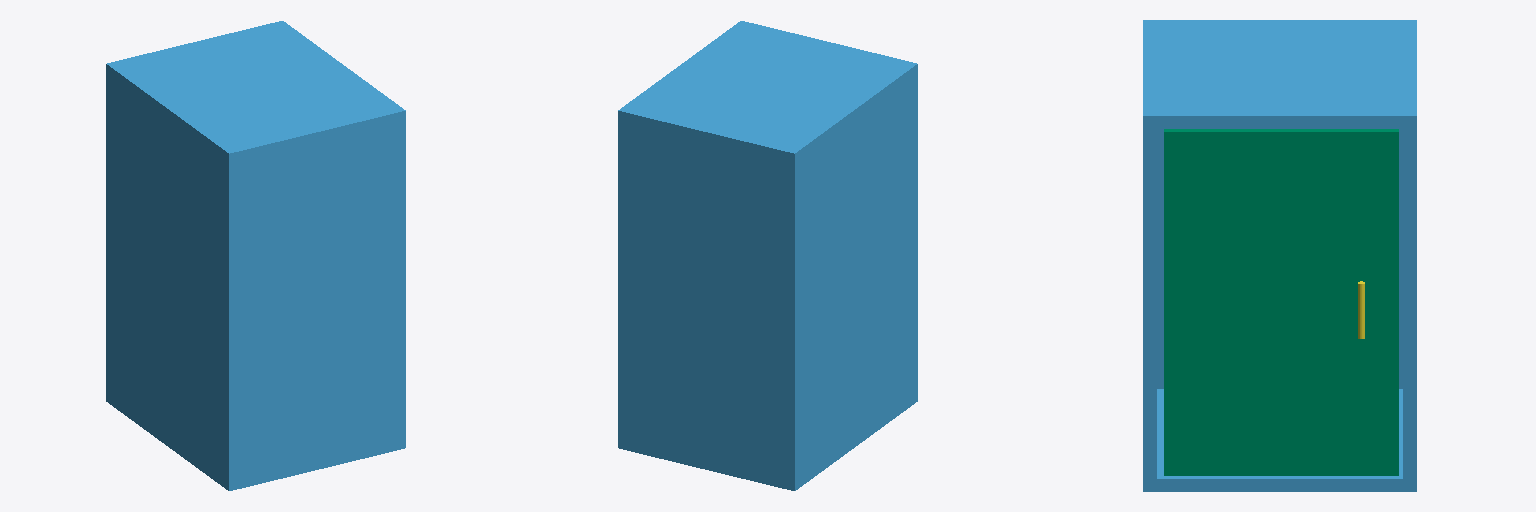
URDF robot description (my_cabinet):
<?xml version="1.0" ?>
<robot name="my_cabinet">
	<link name="world"/>
	<joint name="virtual_joint" type="fixed">
		<parent link="world"/>
		<child link="base_cabinet_link"/>
		<origin xyz="0.0 0.0 0.0" rpy="0.0 0.0 0.0"/>
	</joint>
	<link name="base_cabinet_link">
		<visual>
			<origin xyz="0.0 -0.0025 -0.26479082413778376" rpy="0.0 0.0 0.0"/>
			<geometry>
				<box size="0.3 0.36199590724419933 0.018"/>
			</geometry>
		</visual>
		<collision name="base_cabinet_link_collision_0">
			<origin xyz="0.0 -0.0025 -0.26479082413778376" rpy="0.0 0.0 0.0"/>
			<geometry>
				<box size="0.3 0.36199590724419933 0.018"/>
			</geometry>
		</collision>
		<visual>
			<origin xyz="0.0 0.16949795362209968 0.0" rpy="0.0 0.0 0.0"/>
			<geometry>
				<box size="0.3 0.018 0.5475816482755675"/>
			</geometry>
		</visual>
		<collision name="base_cabinet_link_collision_1">
			<origin xyz="0.0 0.16949795362209968 0.0" rpy="0.0 0.0 0.0"/>
			<geometry>
				<box size="0.3 0.018 0.5475816482755675"/>
			</geometry>
		</collision>
		<visual>
			<origin xyz="0.0 -0.1744979536220997 0.0" rpy="0.0 0.0 0.0"/>
			<geometry>
				<box size="0.3 0.018 0.5475816482755675"/>
			</geometry>
		</visual>
		<collision name="base_cabinet_link_collision_2">
			<origin xyz="0.0 -0.1744979536220997 0.0" rpy="0.0 0.0 0.0"/>
			<geometry>
				<box size="0.3 0.018 0.5475816482755675"/>
			</geometry>
		</collision>
		<visual>
			<origin xyz="0.0 -0.0025 0.26479082413778376" rpy="0.0 0.0 0.0"/>
			<geometry>
				<box size="0.3 0.36199590724419933 0.018"/>
			</geometry>
		</visual>
		<collision name="base_cabinet_link_collision_3">
			<origin xyz="0.0 -0.0025 0.26479082413778376" rpy="0.0 0.0 0.0"/>
			<geometry>
				<box size="0.3 0.36199590724419933 0.018"/>
			</geometry>
		</collision>
		<visual>
			<origin xyz="-0.141 -0.0025 0.0" rpy="0.0 0.0 0.0"/>
			<geometry>
				<box size="0.018 0.36199590724419933 0.5475816482755675"/>
			</geometry>
		</visual>
		<collision name="base_cabinet_link_collision_4">
			<origin xyz="-0.141 -0.0025 0.0" rpy="0.0 0.0 0.0"/>
			<geometry>
				<box size="0.018 0.36199590724419933 0.5475816482755675"/>
			</geometry>
		</collision>
		<inertial>
			<mass value="0.200000"/>
			<inertia ixx="0.007181" ixy="0.0" ixz="0.0" iyy="0.006497" iyz="0.0" izz="0.003684"/>
		</inertial>
	</link>
	<link name="door_link">
		<visual>
			<origin xyz="0.0 -0.15549795362209967 0.0"/>
			<geometry>
				<box size="0.018 0.31099590724419934 0.5015816482755675"/>
			</geometry>
		</visual>
		<collision name="door_link_collision">
			<origin xyz="0.0 -0.15549795362209967 0.0"/>
			<geometry>
				<box size="0.018 0.31099590724419934 0.5015816482755675"/>
			</geometry>
		</collision>
		<inertial>
			<mass value="0.200000"/>
			<inertia ixx="0.005805" ixy="0.0" ixz="0.0" iyy="0.004198" iyz="0.0" izz="0.001617"/>
		</inertial>
	</link>
	<joint name="door_joint" type="revolute">
		<origin xyz="0.141 -0.15549795362209967 0.0" rpy="0.000000 -0.000000 3.141593"/>
		<axis xyz="0 0 1"/>
		<parent link="base_cabinet_link"/>
		<child link="door_link"/>
		<limit effort="50" lower="-1.658062789394613" upper="0" velocity="10"/>
		<dynamics friction="3.5" damping="3.5"/>
	</joint>
	<link name="handle_link">
		<visual>
			<origin xyz="0.0 0.0 0.0" rpy="0.0 0.0 0.0"/>
			<geometry>
				<cylinder length="0.08" radius="0.005"/>
			</geometry>
		</visual>
		<collision name="handle_link_collision_0">
			<origin xyz="0.0 0.0 0.0" rpy="0.0 0.0 0.0"/>
			<geometry>
				<cylinder length="0.08" radius="0.005"/>
			</geometry>
		</collision>
		<visual>
			<origin xyz="-0.01 0.0 0.02" rpy="0.0 1.5707963267948966 0.0"/>
			<geometry>
				<cylinder length="0.02" radius="0.003"/>
			</geometry>
		</visual>
		<collision name="handle_link_collision_1">
			<origin xyz="-0.01 0.0 0.02" rpy="0.0 1.5707963267948966 0.0"/>
			<geometry>
				<cylinder length="0.01" radius="0.003"/>
			</geometry>
		</collision>
		<visual>
			<origin xyz="-0.01 0.0 -0.02" rpy="0.0 1.5707963267948966 0.0"/>
			<geometry>
				<cylinder length="0.02" radius="0.003"/>
			</geometry>
		</visual>
		<collision name="handle_link_collision_2">
			<origin xyz="-0.01 0.0 -0.02" rpy="0.0 1.5707963267948966 0.0"/>
			<geometry>
				<cylinder length="0.02" radius="0.003"/>
			</geometry>
		</collision>
		<inertial>
			<mass value="0.050000"/>
			<inertia ixx="0.000027" ixy="0.0" ixz="0.0" iyy="0.000029" iyz="0.0" izz="0.000003"/>
		</inertial>
	</link>
	<joint name="handle_joint" type="fixed">
		<origin xyz="-0.028999999999999998 -0.26099590724419935 0.0" rpy="0.000000 -0.000000 3.141593"/>
		<parent link="door_link"/>
		<child link="handle_link"/>
	</joint>
	<gazebo reference="base_cabinet_link">
		<sensor name="main_sensor" type="contact">
			<selfCollide>true</selfCollide>
			<alwaysOn>true</alwaysOn>
			<updateRate>5.0</updateRate>
			<material>Gazebo/Red</material>
			<contact>
				<collision>base_cabinet_link_collision_0_collision</collision>
				<collision>base_cabinet_link_collision_1_collision</collision>
				<collision>base_cabinet_link_collision_2_collision</collision>
				<collision>base_cabinet_link_collision_3_collision</collision>
				<collision>base_cabinet_link_collision_4_collision</collision>
			</contact>
			<plugin name="gazebo_ros_bumper_controller" filename="libgazebo_ros_bumper.so">
				<bumperTopicName>/contact</bumperTopicName>
				<frameName>world</frameName>
			</plugin>
		</sensor>
	</gazebo>
	<gazebo reference="door_link">
		<sensor name="main_sensor" type="contact">
			<selfCollide>true</selfCollide>
			<alwaysOn>true</alwaysOn>
			<updateRate>5.0</updateRate>
			<material>Gazebo/Red</material>
			<contact>
				<collision>door_link_collision_collision</collision>
			</contact>
			<plugin name="gazebo_ros_bumper_controller" filename="libgazebo_ros_bumper.so">
				<bumperTopicName>/contact_door</bumperTopicName>
				<frameName>contact_door</frameName>
			</plugin>
		</sensor>
	</gazebo>
	<gazebo reference="door_link">
		<mu>3.0</mu>
		<mu2>3.0</mu2>
		<kp>10000000</kp>
		<kd>100</kd>
	</gazebo>
</robot>

--- What the picture shows (computed from the rendered views, not written in the file) ---
The picture shows the robot from 3 angles, left to right: view 1: azimuth 30°, elevation 25°; view 2: azimuth 150°, elevation 25°; view 3: azimuth 270°, elevation 25°; orthographic projection.
Model my_cabinet with 4 links and 3 joints (1 revolute, 2 fixed), rooted at world, posed all joints at 0.
Visible links, largest first — view 1: base_cabinet_link; view 2: base_cabinet_link; view 3: door_link, base_cabinet_link.
Link boxes in pixels (x1=…): base_cabinet_link: x1=106, y1=21, x2=405, y2=490; base_cabinet_link: x1=618, y1=21, x2=917, y2=490; door_link: x1=1164, y1=129, x2=1398, y2=475; base_cabinet_link: x1=1143, y1=20, x2=1416, y2=491.
Bounding box of the posed robot: 0.325 × 0.362 × 0.5476 m (x, y, z).
Geometry: primitives only (box / cylinder / sphere), no mesh files.
